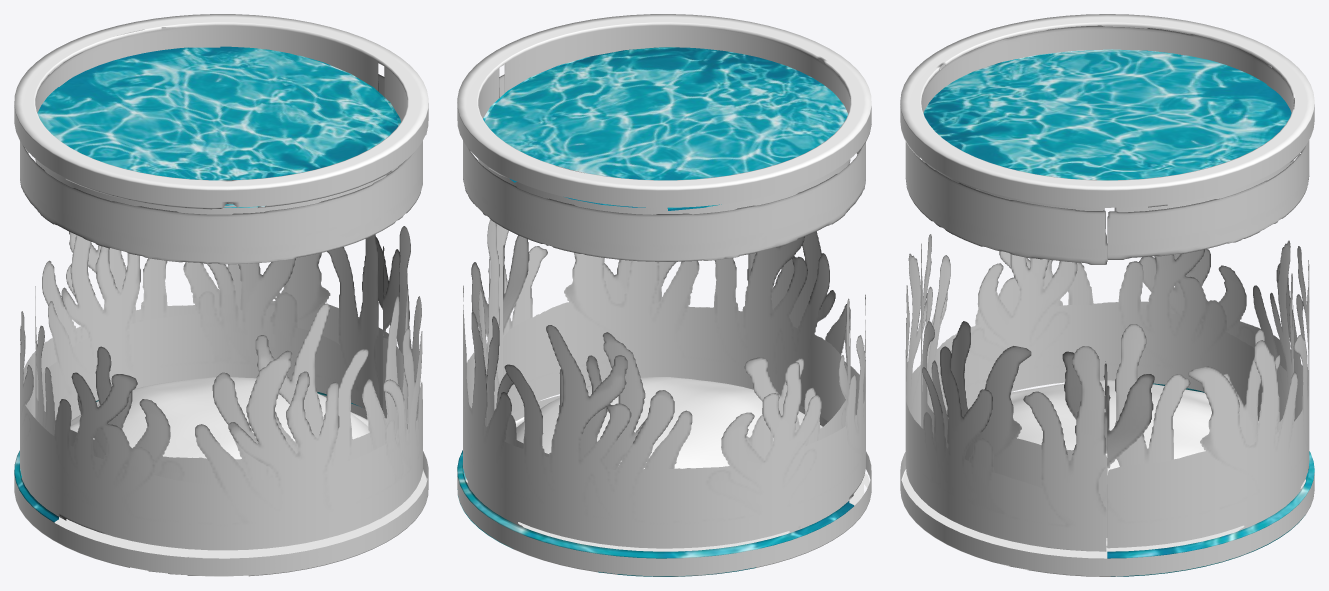
File: pecera_final.obj
The picture shows the model from 3 angles, left to right: view 1: azimuth 30°, elevation 25°; view 2: azimuth 150°, elevation 25°; view 3: azimuth 270°, elevation 25°; orthographic projection.
Parts seen in each view (by area): view 1: pecera_Material.001; view 2: pecera_Material.001; view 3: pecera_Material.001.
Part boxes in pixels (x1=…): pecera_Material.001: x1=14, y1=14, x2=428, y2=576; pecera_Material.001: x1=457, y1=14, x2=871, y2=576; pecera_Material.001: x1=900, y1=14, x2=1314, y2=576.
Size of the model in its own units: 1.96 by 2.02 by 1.96.
